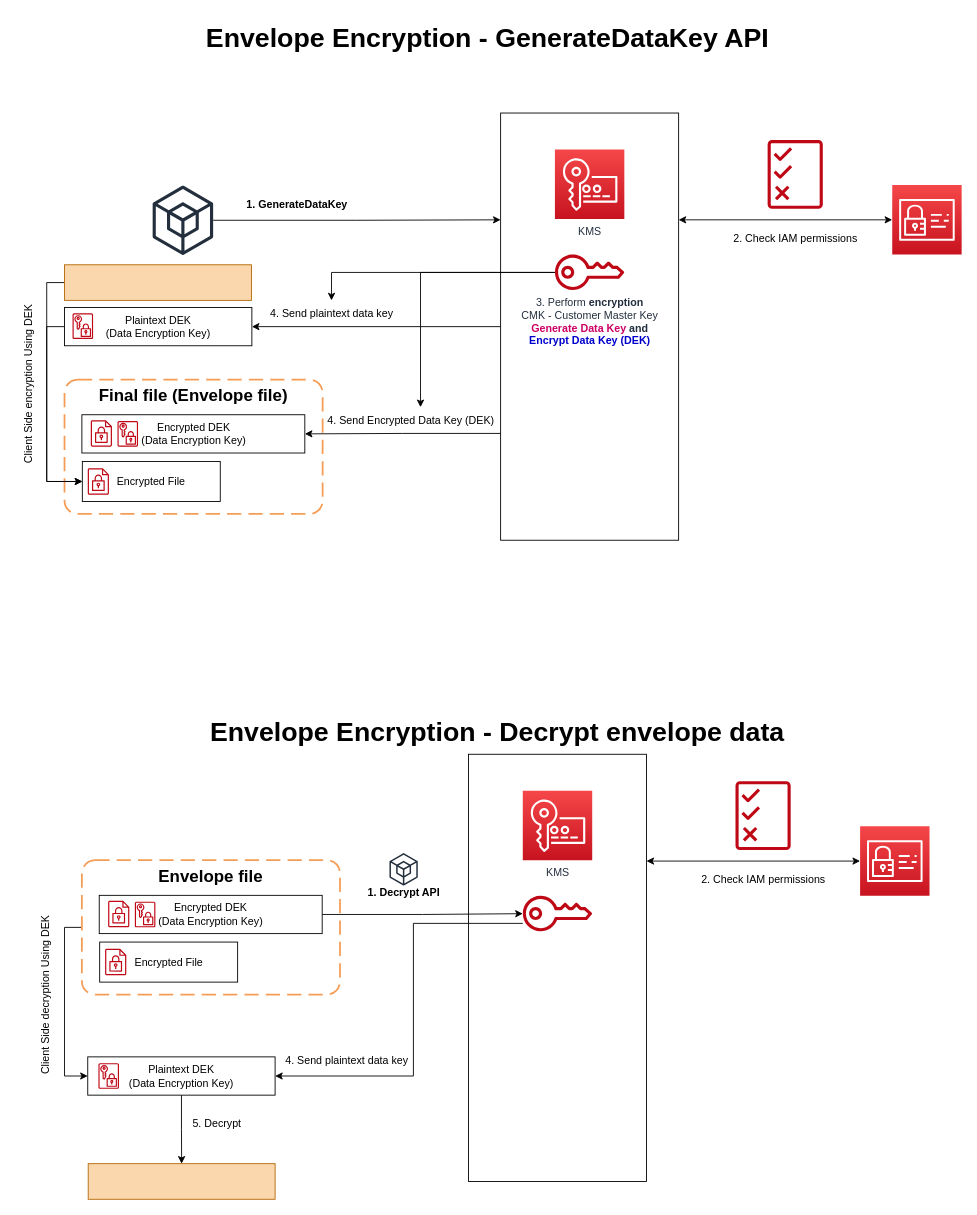
Some shapes in this 977 by 1215 pixel diagram are drawn without their labels. Each missing label, with the centre of its shape:
3. Perform encryption CMK - Customer Master Key Decrypt Data Key: point 557,913
BIG File/Secret/Data with > 4 kb or for example 10MB: point 157,282
Decrypted BIG File: point 181,1181
